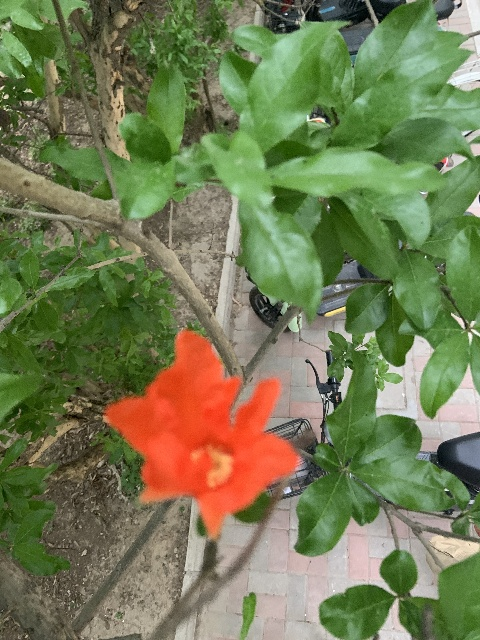flower: (103, 330, 301, 540)
